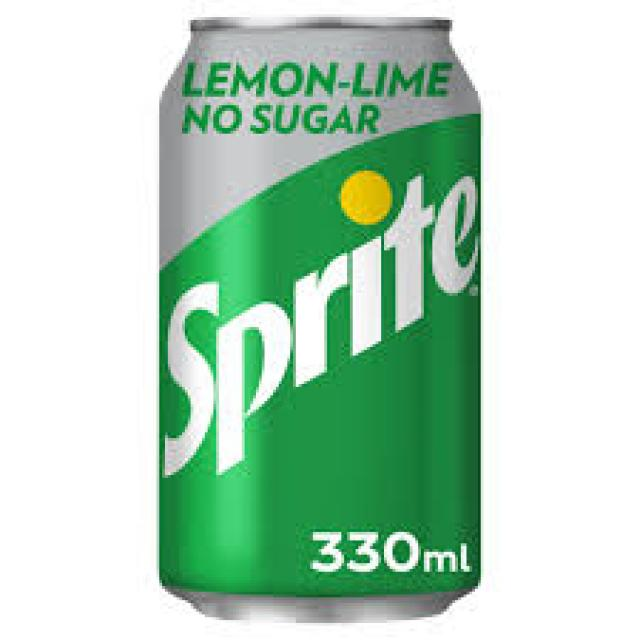aluminum_can: (162, 20, 484, 619)
